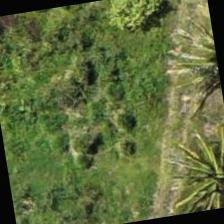Kelapa_Sawit: (169, 131, 223, 215)
